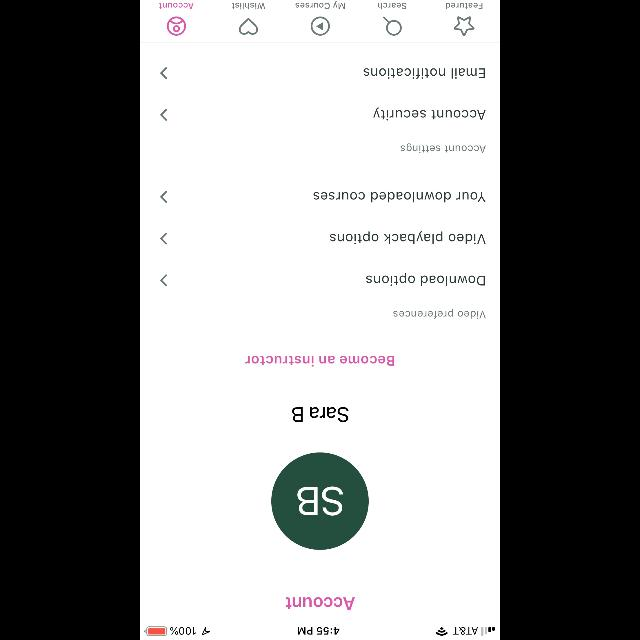icon: (454, 16, 474, 36), (382, 16, 402, 36), (310, 16, 330, 36), (167, 16, 186, 36), (238, 18, 258, 34), (160, 67, 167, 79), (160, 109, 167, 121), (160, 191, 167, 203), (160, 233, 167, 245), (160, 274, 167, 286)
image: (272, 452, 368, 550)
text: (330, 232, 486, 244), (313, 192, 485, 202), (246, 356, 394, 366), (366, 274, 484, 286), (372, 108, 486, 120), (363, 68, 485, 78), (286, 596, 354, 610), (392, 309, 486, 319), (292, 406, 348, 422), (400, 143, 486, 153), (295, 1, 345, 9), (232, 2, 264, 10), (378, 2, 407, 10), (446, 3, 482, 9), (158, 3, 194, 9)
uppertaskbar: (140, 626, 500, 640)
